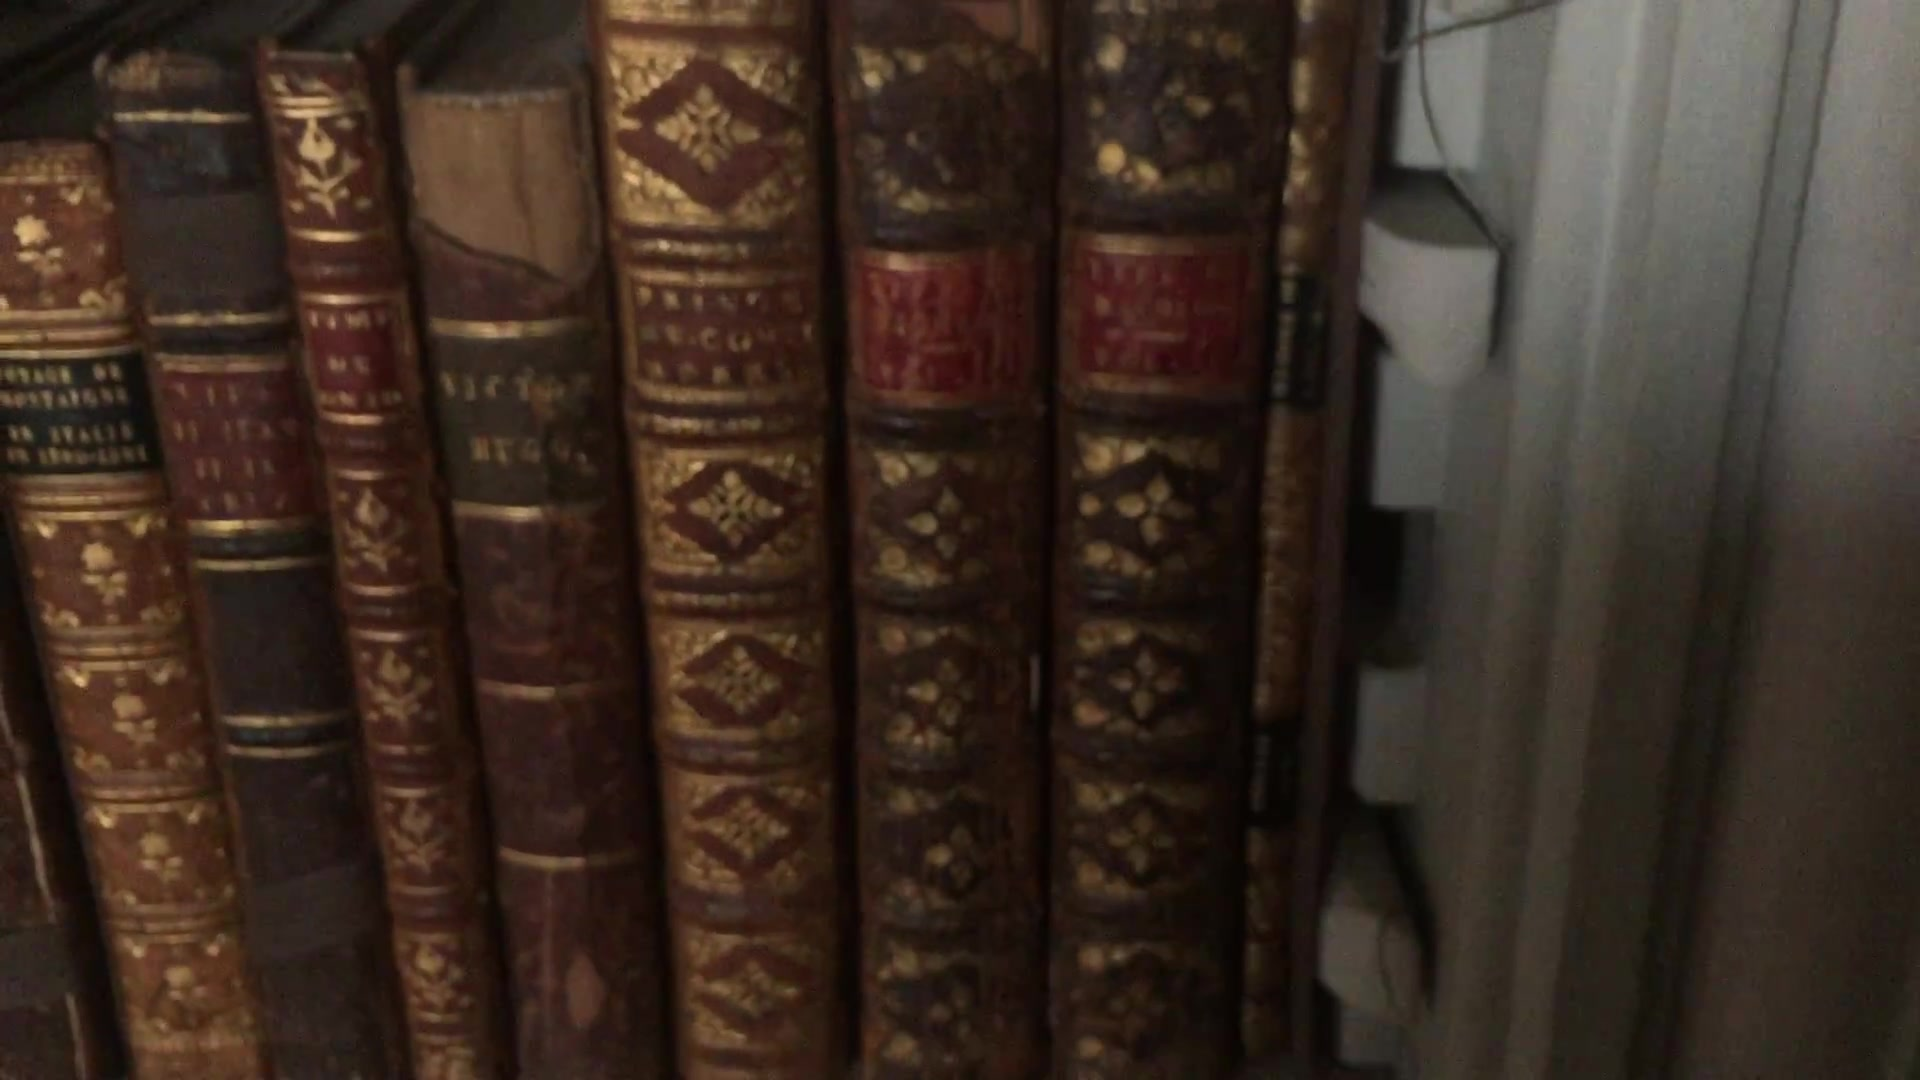Aa6-41: (4, 112, 257, 1080)
Aa6-42: (84, 53, 423, 1080)
Aa6-43: (255, 55, 568, 1080)
Aa6-44: (390, 53, 719, 1080)
Aa6-45: (592, 5, 870, 1075)
Aa6-46-47: (808, 7, 1228, 1080)
Aa6-48: (1246, 12, 1364, 1080)
